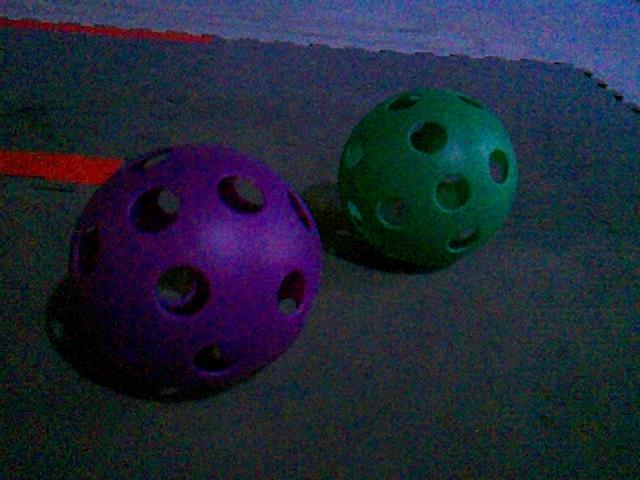Green: (334, 83, 521, 272)
Purple: (55, 139, 325, 401)
